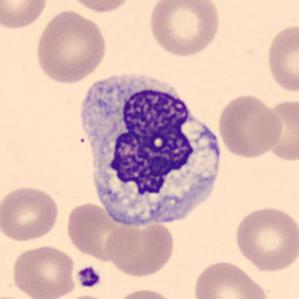Monocyte: (72, 63, 227, 231)
Platelets: (76, 266, 101, 290)
RBC: (33, 8, 109, 85), (232, 204, 298, 274), (216, 92, 283, 160), (103, 217, 176, 278), (146, 0, 222, 58), (64, 200, 133, 263), (9, 243, 77, 298), (0, 184, 62, 243), (190, 258, 272, 299), (257, 97, 299, 162), (264, 21, 298, 95), (0, 0, 49, 31), (64, 0, 135, 15), (112, 286, 179, 299)
